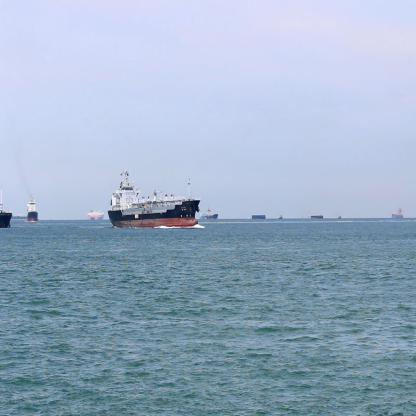Container Ship: (107, 166, 201, 230), (0, 182, 13, 230), (199, 204, 219, 223), (28, 196, 38, 222), (391, 205, 405, 221), (87, 210, 104, 222), (12, 213, 28, 221)
